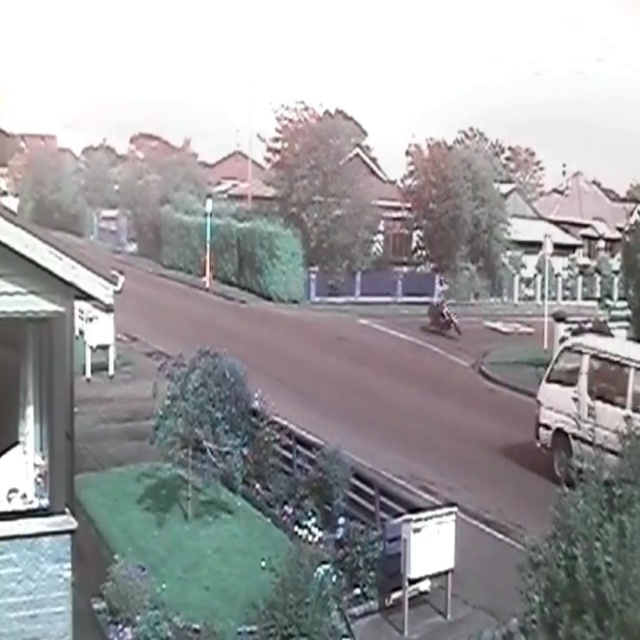acc: (417, 293, 468, 351)
